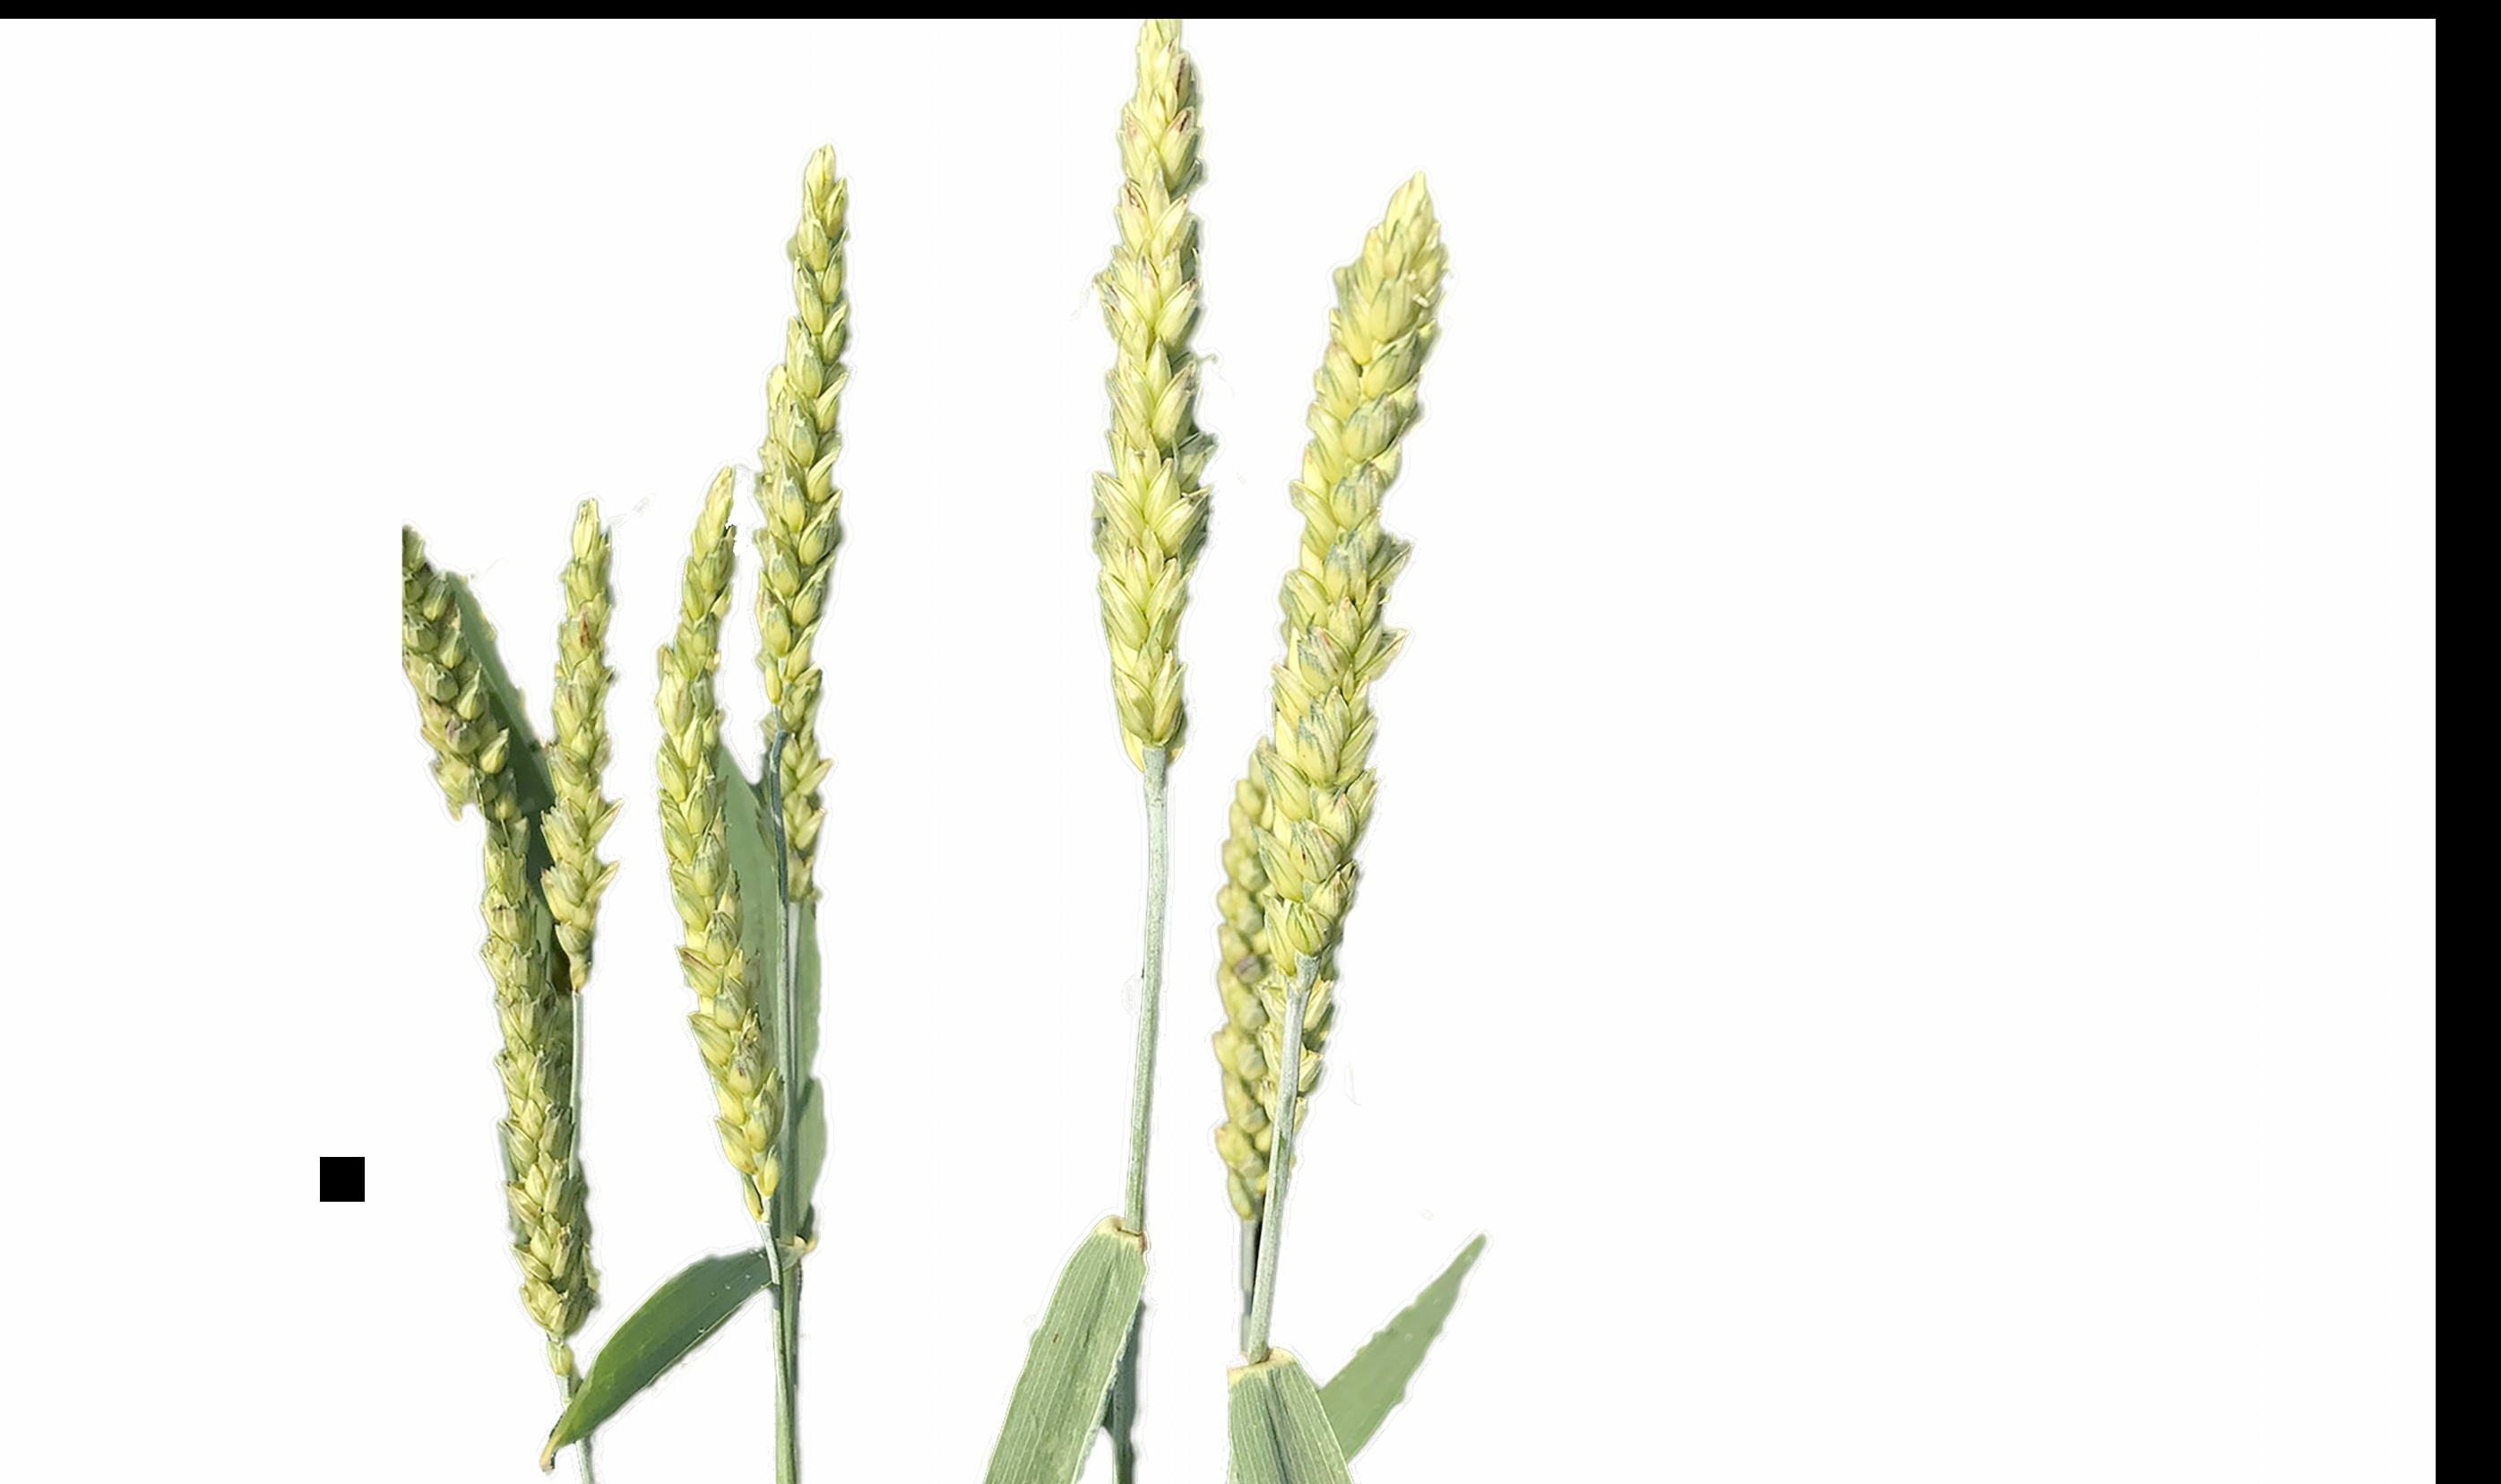wheat: (1203, 154, 1434, 1405), (650, 117, 873, 1330), (401, 459, 623, 1364), (1026, 19, 1228, 959)
